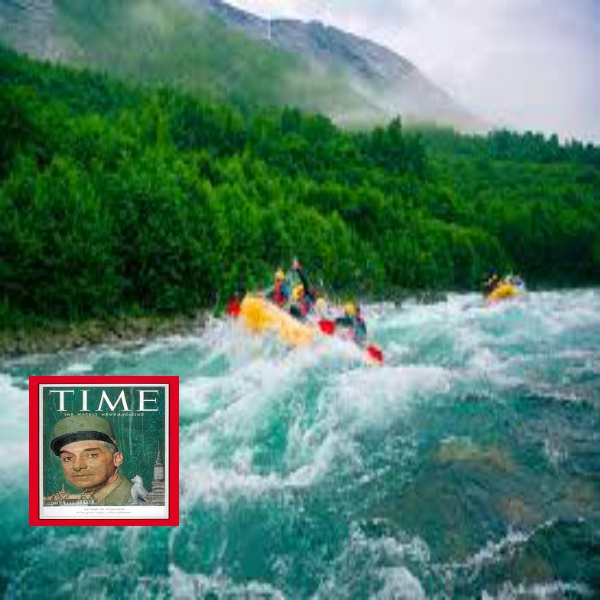time_cover: (26, 367, 176, 529)
